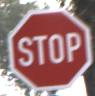Stop sign: (0, 0, 94, 95)
